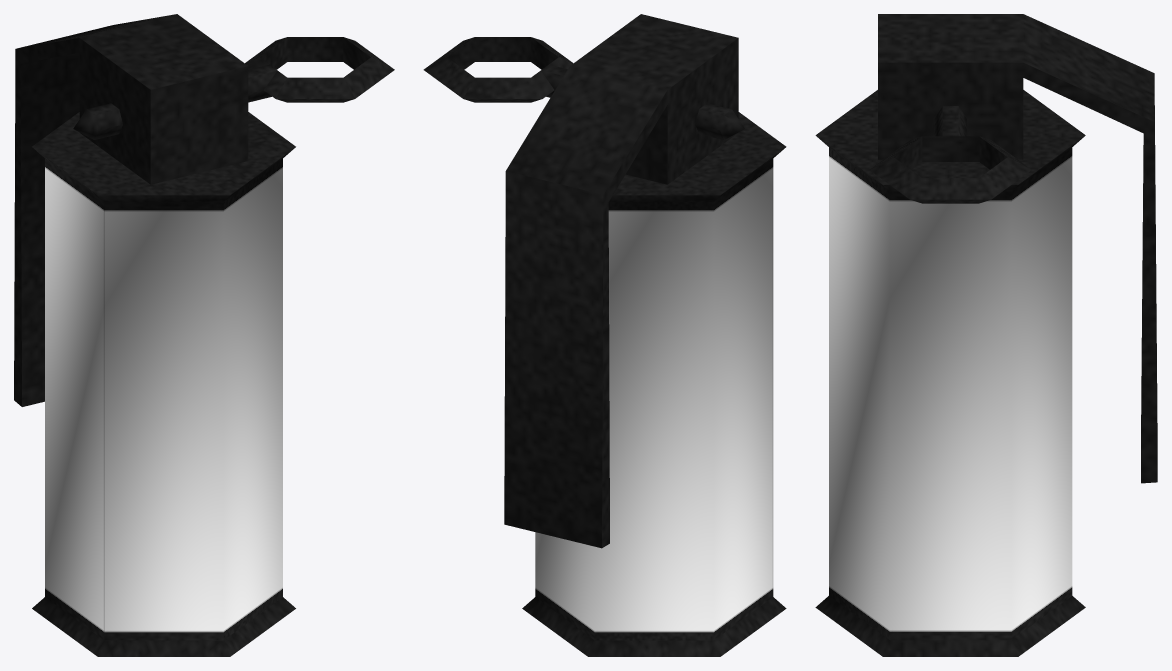
The model's file is dark_bomb.glb.
3 renders of one model, left to right at view 1: azimuth 30°, elevation 25°; view 2: azimuth 150°, elevation 25°; view 3: azimuth 270°, elevation 25°, orthographic. The views are drawn at different scales.
Visible parts, largest first — view 1: dark_bomb; view 2: dark_bomb; view 3: dark_bomb.
Boxes of the visible parts, box(x1,y1,x2,y2) form: dark_bomb: box(14, 14, 394, 656); dark_bomb: box(423, 14, 786, 656); dark_bomb: box(815, 14, 1157, 656).
Size of what is drawn, in the model's own units: 0.225 by 0.3858 by 0.2102.
Materials: 1 (1 with a texture image).
